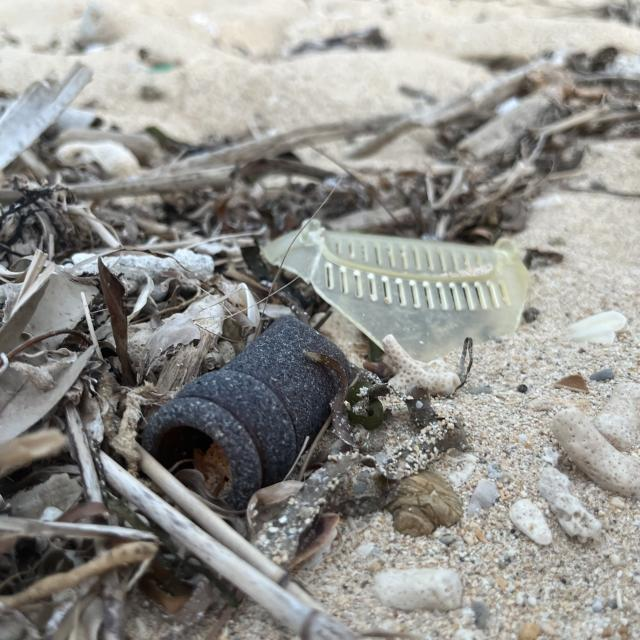coral: (557, 390, 640, 513)
seaweed: (0, 94, 566, 480)
trash: (251, 210, 538, 388), (132, 314, 367, 509)
